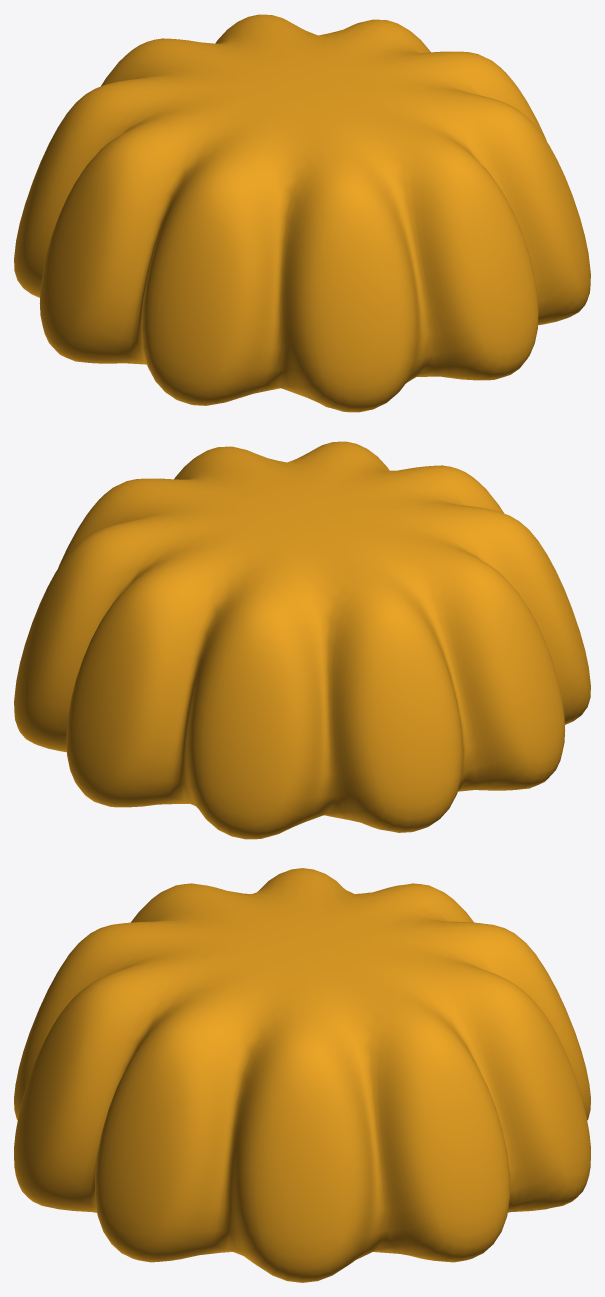
Rendered from Jelly_animate.fbx.
3 renders of one model, top to bottom at view 1: azimuth 30°, elevation 25°; view 2: azimuth 150°, elevation 25°; view 3: azimuth 270°, elevation 25°, orthographic. The views are drawn at different scales.
Visible parts, largest first — view 1: Cylinder; view 2: Cylinder; view 3: Cylinder.
Part boxes in pixels (<box>): Cylinder: <box>14,14,590,412</box>; Cylinder: <box>14,441,590,839</box>; Cylinder: <box>14,868,590,1282</box>.
Bounding box in the file's own units: 201 × 87.49 × 194.
